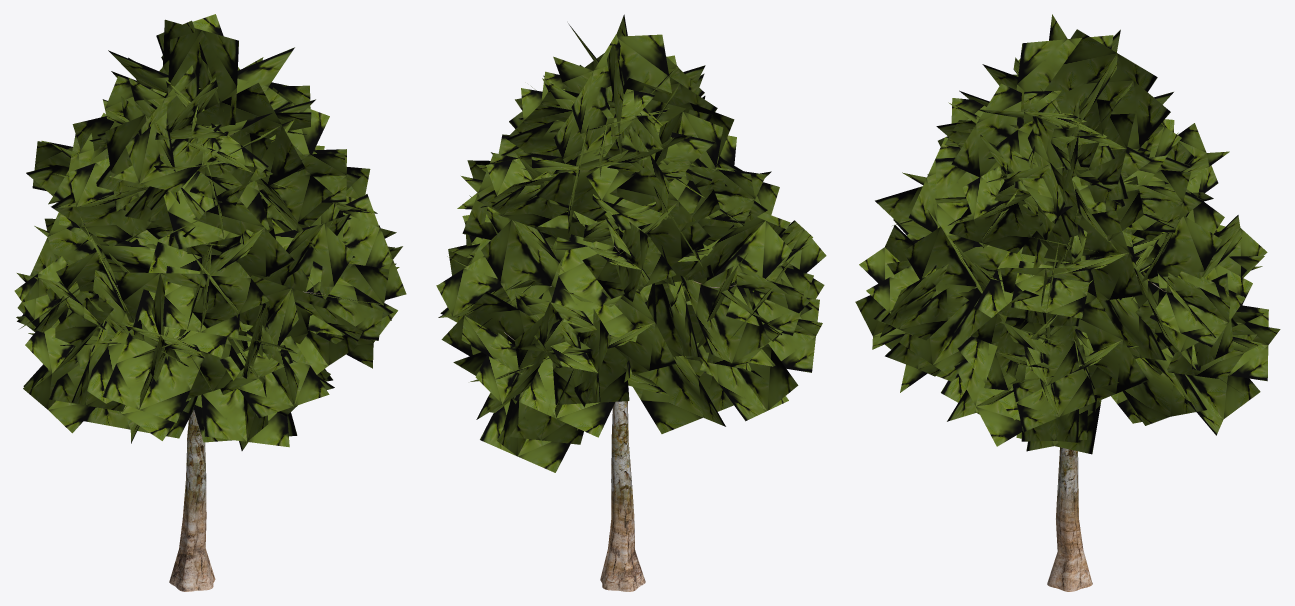
Rendered from SmallTree_04_01.obj.
The picture shows the model from 3 angles, left to right: view 1: azimuth 30°, elevation 25°; view 2: azimuth 150°, elevation 25°; view 3: azimuth 270°, elevation 25°; orthographic projection.
Visible parts, largest first — view 1: bark11, beech leaf_t; view 2: bark11, beech leaf_t; view 3: bark11, beech leaf_t.
Boxes of the visible parts, x1=… form: bark11: x1=14, y1=14, x2=406, y2=450; beech leaf_t: x1=116, y1=285, x2=325, y2=591; bark11: x1=436, y1=14, x2=826, y2=472; beech leaf_t: x1=504, y1=246, x2=736, y2=591; bark11: x1=855, y1=14, x2=1280, y2=454; beech leaf_t: x1=976, y1=275, x2=1171, y2=591.
Size of the model in its own units: 82.05 by 117 by 81.09.
2 materials, 2 textured.
